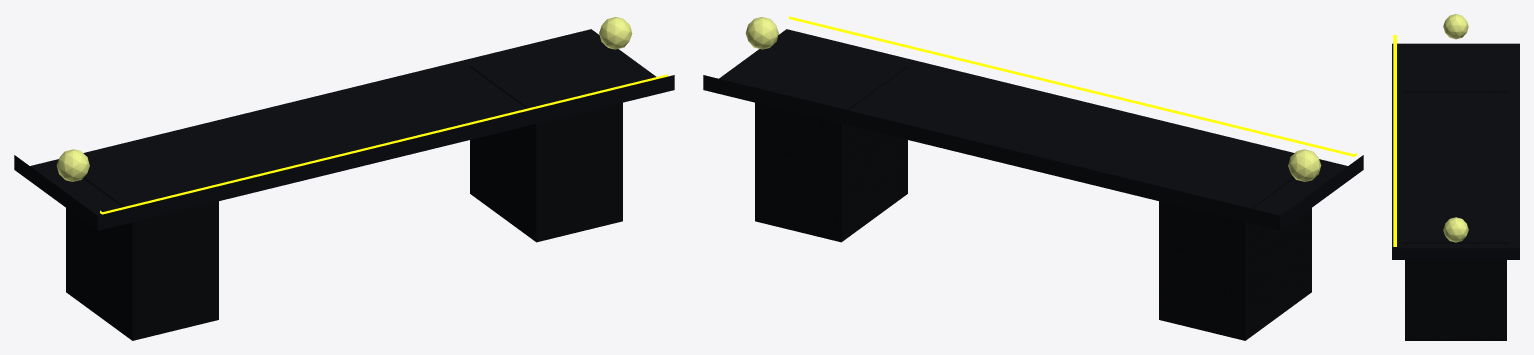
The model's file is v1_court_bench.glb.
The picture shows the model from 3 angles, left to right: view 1: azimuth 30°, elevation 25°; view 2: azimuth 150°, elevation 25°; view 3: azimuth 270°, elevation 25°; orthographic projection. The views are drawn at different scales.
Visible parts, largest first — view 1: Bench_Seat, Bench_Plinths, Seat_Edge, Ball_Ends; view 2: Bench_Seat, Bench_Plinths, Seat_Edge, Ball_Ends; view 3: Bench_Seat, Bench_Plinths, Ball_Ends, Seat_Edge.
Part boxes in pixels (x1,y1,x2,y2): Bench_Seat: (14,29,674,230); Bench_Plinths: (66,66,622,340); Seat_Edge: (100,74,667,214); Ball_Ends: (56,17,632,181); Bench_Seat: (703,29,1363,230); Bench_Plinths: (755,66,1311,340); Seat_Edge: (789,16,1356,156); Ball_Ends: (745,17,1321,181); Bench_Seat: (1392,43,1519,259); Bench_Plinths: (1405,91,1506,340); Ball_Ends: (1443,14,1468,242); Seat_Edge: (1393,35,1396,246).
Size of what is drawn, in the model's own units: 2 by 0.571 by 0.5.
Materials: 4 (2 with a texture image).
